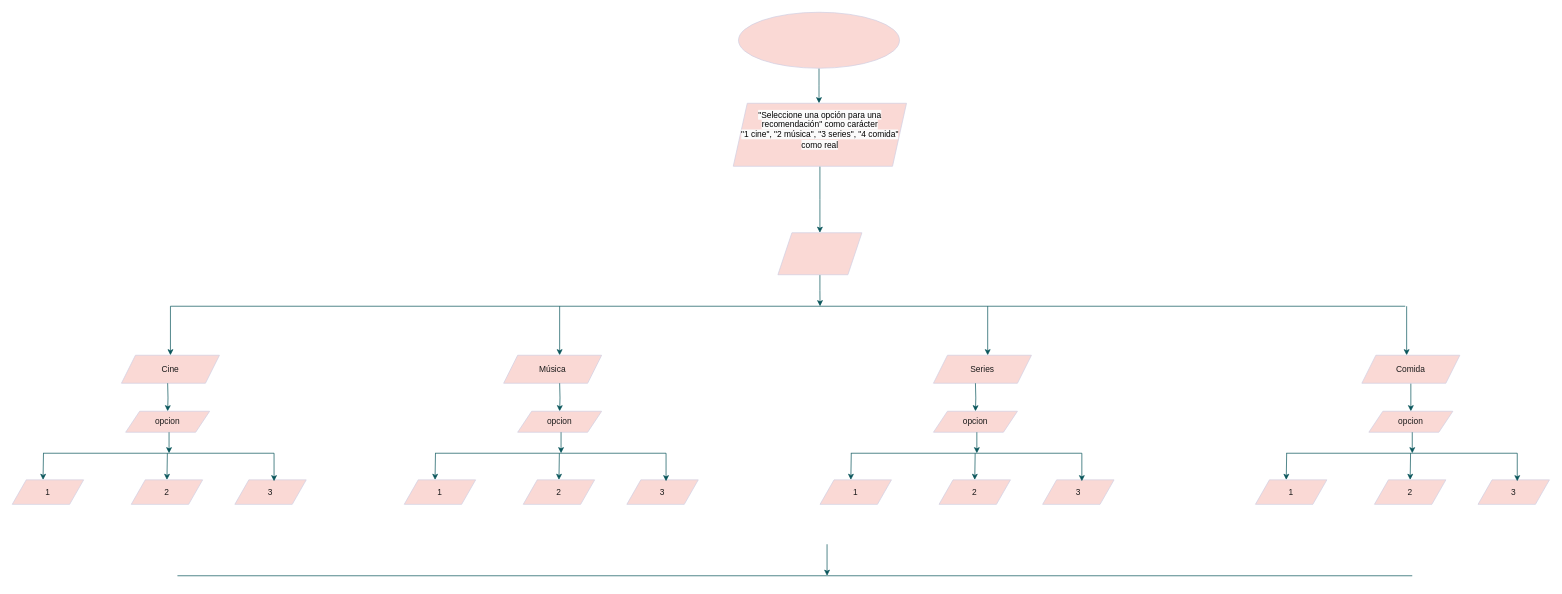
This 1562x594 diagram has some shape labels left out. The box of each missing label's shape, as (x1, y1, x2, y2) in pixels:
Inicio: (738, 12, 899, 68)
Recomendación: (777, 232, 862, 275)
